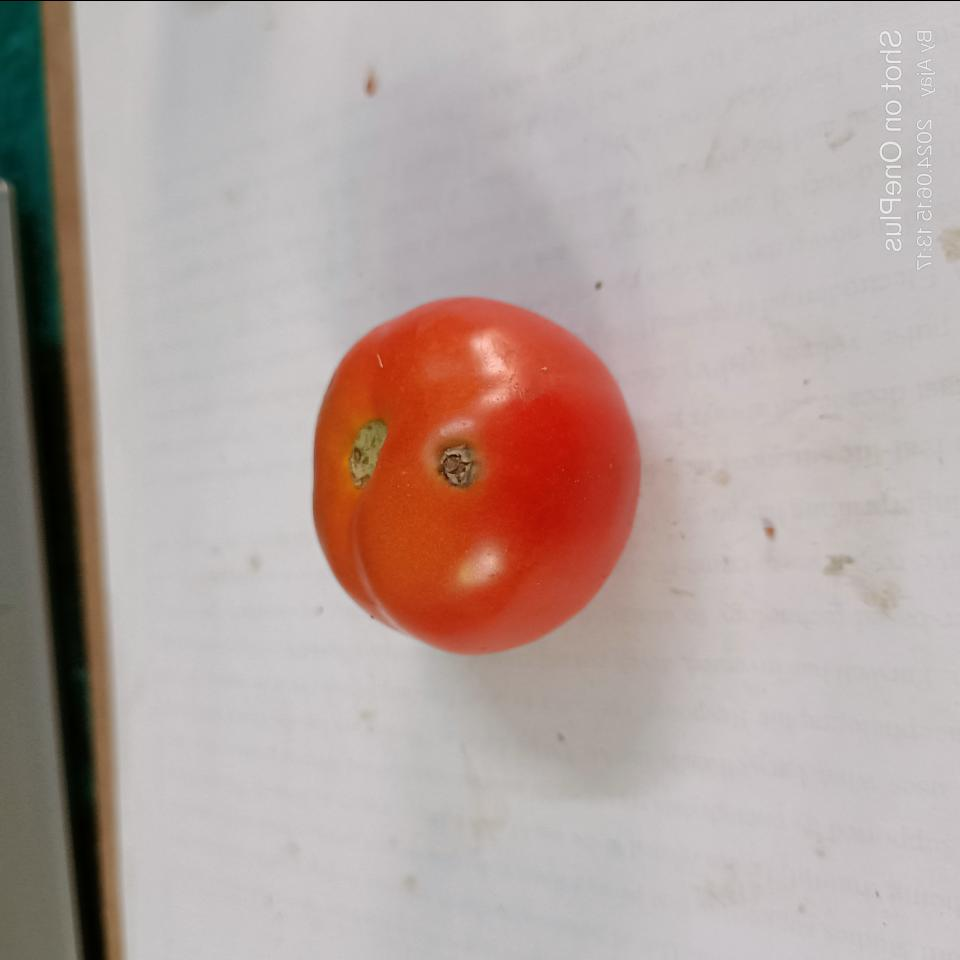Bacterial_Spot: (432, 436, 480, 490)
